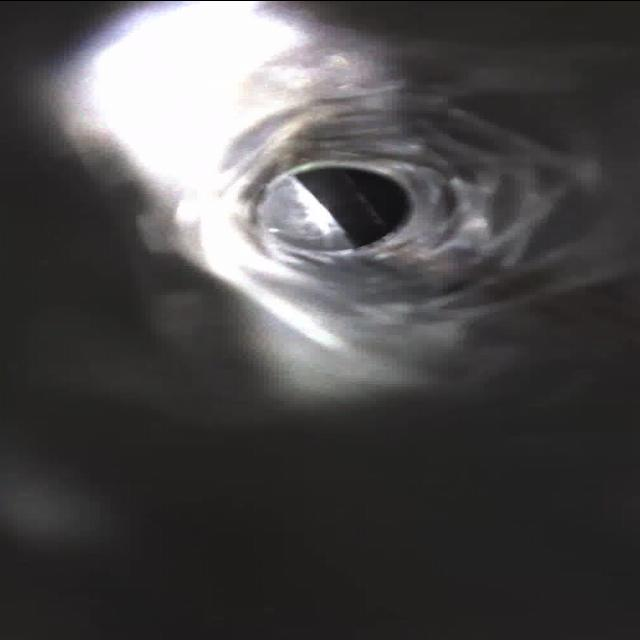crack: (438, 175, 586, 262), (406, 85, 556, 166), (232, 80, 372, 158)
